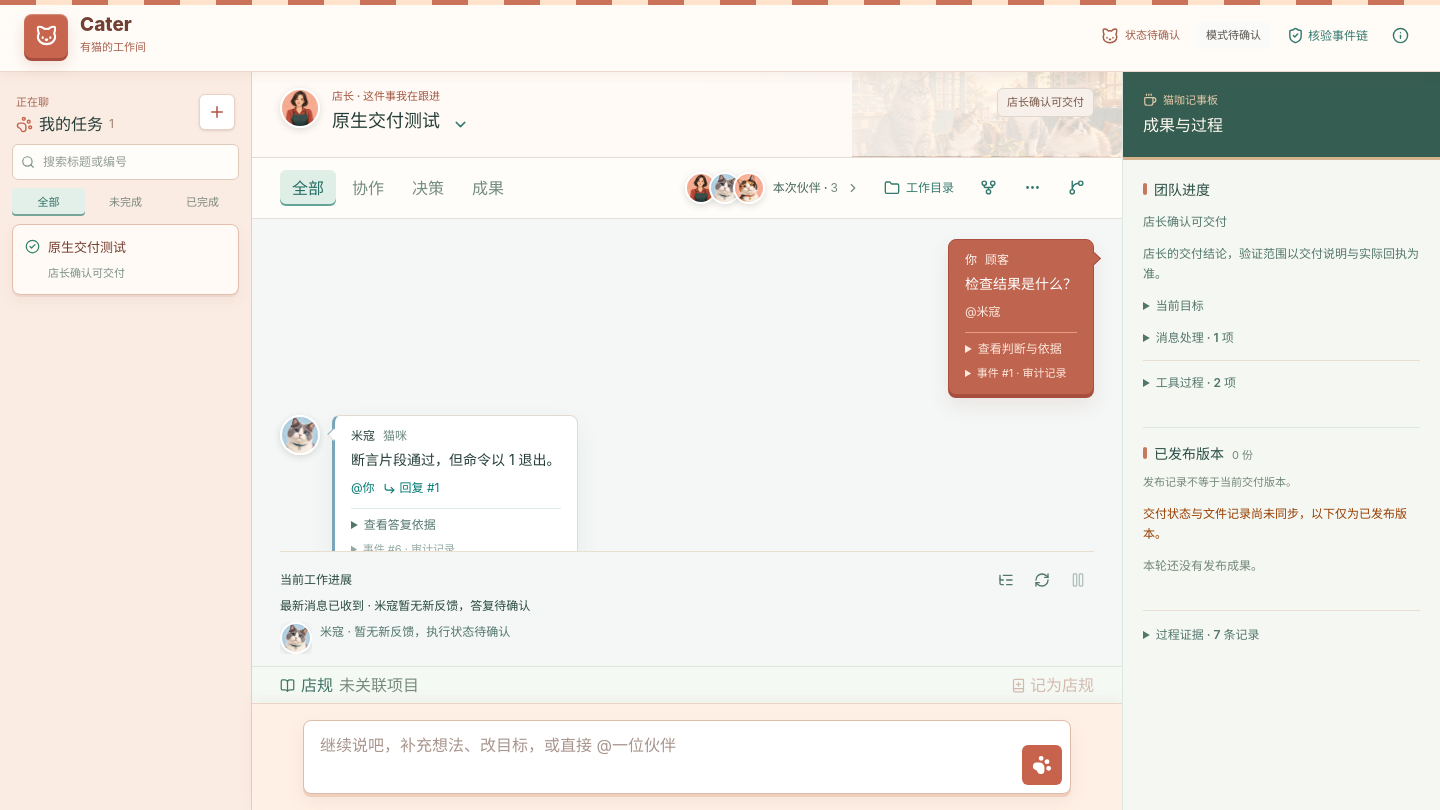
Test case: App conversationFor 将依据挂到真实答复，展开无请求且默认折叠
Expected: the text "查看答复依据" shows "断言片段通过，但命令以 1 退出。", [351,450,561,468]
What coordinates should you click on to do the following:
click the heading "查看答复依据"
I would click on:
 (400, 524)
Its box is [364,517,436,532].
(page scrolled)
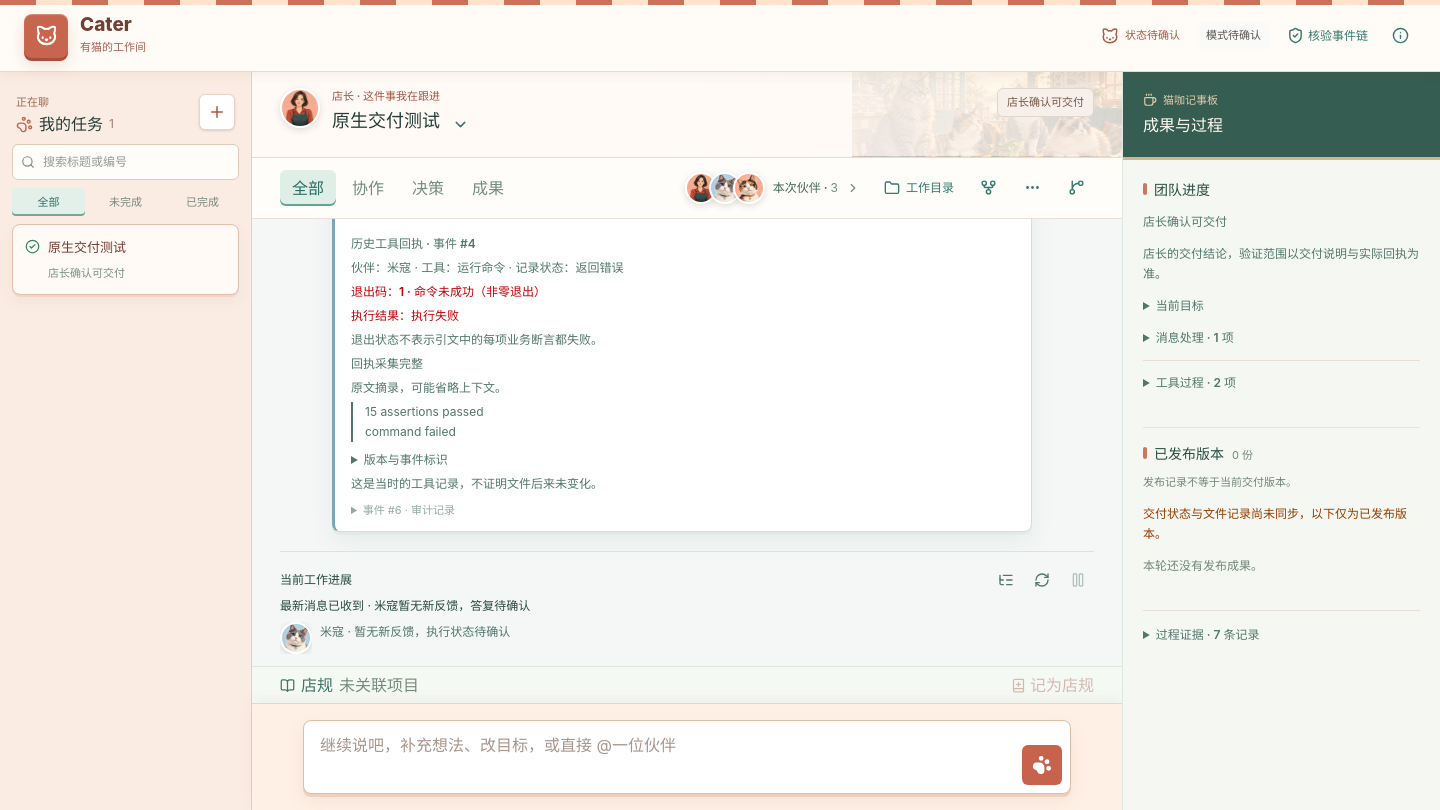
Now the text "伙伴：米寇 · 工具：运行命令 · 记录状态：返回错误" is shown, box [351,260,623,275]
